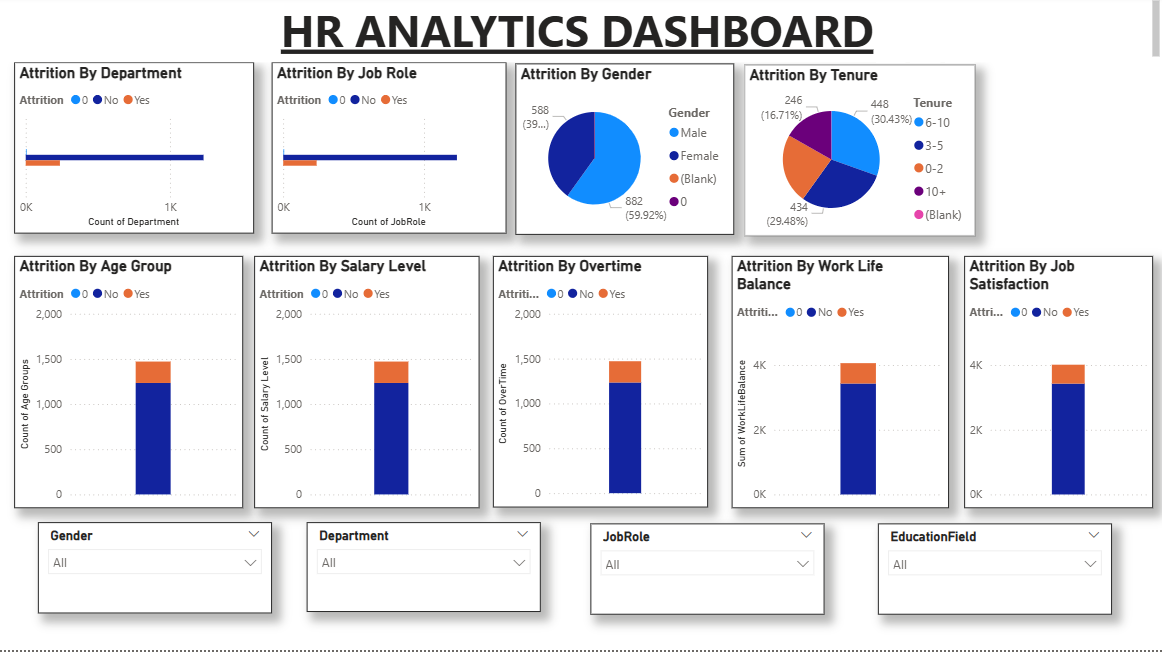

The page's visual inventory and layout, read from the dashboard file:
{"tool":"powerbi","page":{"name":"HR_Analytics","canvas":[1280,720],"ordinal":0},"visuals":[{"type":"clusteredBarChart","title":" Attrition By Department","fields":{"Y":["CountNonNull(Pivot_Columns.Department)"],"Series":["Pivot_Columns.Attrition"]},"box":[17.8,72.7,263.5,188],"z":0},{"type":"clusteredBarChart","title":" Attrition By Job Role","fields":{"Y":["CountNonNull(Pivot_Columns.JobRole)"],"Series":["Pivot_Columns.Attrition"]},"box":[300.5,72.7,258,188],"z":1},{"type":"columnChart","title":"Attrition By Age Group","fields":{"Y":["CountNonNull(Pivot_Columns.Age Groups)"],"Series":["Pivot_Columns.Attrition"]},"box":[17.8,285.4,251.1,277.2],"z":2},{"type":"columnChart","title":"Attrition By Salary Level","fields":{"Y":["CountNonNull(Pivot_Columns.Salary Level)"],"Series":["Pivot_Columns.Attrition"]},"box":[281.3,285.4,247,277.2],"z":3},{"type":"columnChart","title":"Attrition By Overtime","fields":{"Y":["CountNonNull(Pivot_Columns.OverTime)"],"Series":["Pivot_Columns.Attrition"]},"box":[543.4,285.4,236,275.8],"z":4},{"type":"pieChart","title":"Attrition By Gender","fields":{"Category":["Pivot_Columns.Gender"],"Y":["CountNonNull(Pivot_Columns.Employee ID)"]},"box":[568.1,74.1,240.1,188],"z":5},{"type":"columnChart","title":"Attrition By Job Satisfaction","fields":{"Y":["Sum(Pivot_Columns.JobSatisfaction)"],"Series":["Pivot_Columns.Attrition"]},"box":[1060.7,285.4,207.2,277.2],"z":6},{"type":"columnChart","title":"Attrition By Work Life Balance","fields":{"Y":["Sum(Pivot_Columns.WorkLifeBalance)"],"Series":["Pivot_Columns.Attrition"]},"box":[805.5,285.4,238.8,277.2],"z":7},{"type":"pieChart","title":"Attrition By Tenure","fields":{"Category":["Pivot_Columns.Tenure"],"Y":["CountNonNull(Pivot_Columns.Employee ID)"]},"box":[819.2,75.5,253.9,188],"z":8},{"type":"textbox","box":[0,0,1280.3,72.7],"z":9},{"type":"slicer","fields":{"Values":["Pivot_Columns.Gender"]},"box":[43.9,577.7,256.6,100.2],"z":10},{"type":"slicer","fields":{"Values":["Pivot_Columns.Department"]},"box":[338.9,577.7,256.6,98.8],"z":11},{"type":"slicer","fields":{"Values":["Pivot_Columns.JobRole"]},"box":[650.4,579.1,256.6,100.2],"z":12},{"type":"slicer","fields":{"Values":["Pivot_Columns.EducationField"]},"box":[966,579.1,256.6,100.2],"z":13}]}

Visuals, with their boxes in screenshot pixels (x1, y1, x2, y2), scaled from the page's 1280x720 canvas onto the 1162x652 screenshot:
" Attrition By Department" clusteredBarChart: 16/66/255/236
" Attrition By Job Role" clusteredBarChart: 273/66/507/236
"Attrition By Age Group" columnChart: 16/258/244/509
"Attrition By Salary Level" columnChart: 255/258/480/509
"Attrition By Overtime" columnChart: 493/258/708/508
"Attrition By Gender" pieChart: 516/67/734/237
"Attrition By Job Satisfaction" columnChart: 963/258/1151/509
"Attrition By Work Life Balance" columnChart: 731/258/948/509
"Attrition By Tenure" pieChart: 744/68/974/239
textbox: 0/0/1161/66
slicer - Pivot_Columns.Gender: 40/523/273/614
slicer - Pivot_Columns.Department: 308/523/541/613
slicer - Pivot_Columns.JobRole: 590/524/823/615
slicer - Pivot_Columns.EducationField: 877/524/1110/615
